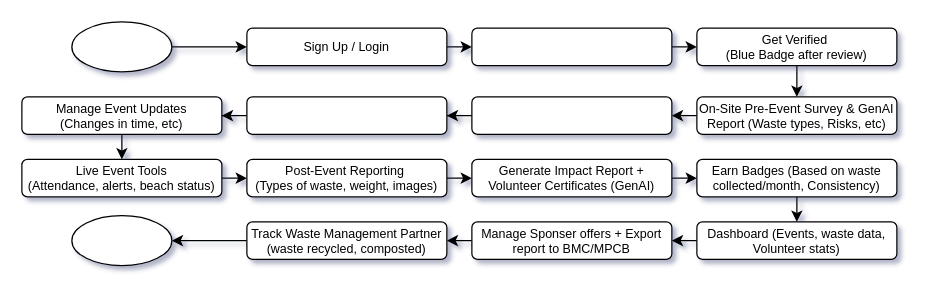
Some shapes in this 926 by 295 pixel diagram are drawn without their labels. The shapes that lost their labels are listed below. From the top down, each one's box as (x1, y1, x2, y2) in pixels, then its label:
(71, 21, 172, 72): Start
(471, 27, 672, 66): Submit KYC + Verification Documents
(246, 96, 447, 134): Auto-Gen Social Posts / Flyer (via GenAI)
(471, 96, 672, 134): Create Event (No. of volunteers, time, location & equipment info)
(71, 214, 172, 266): End
